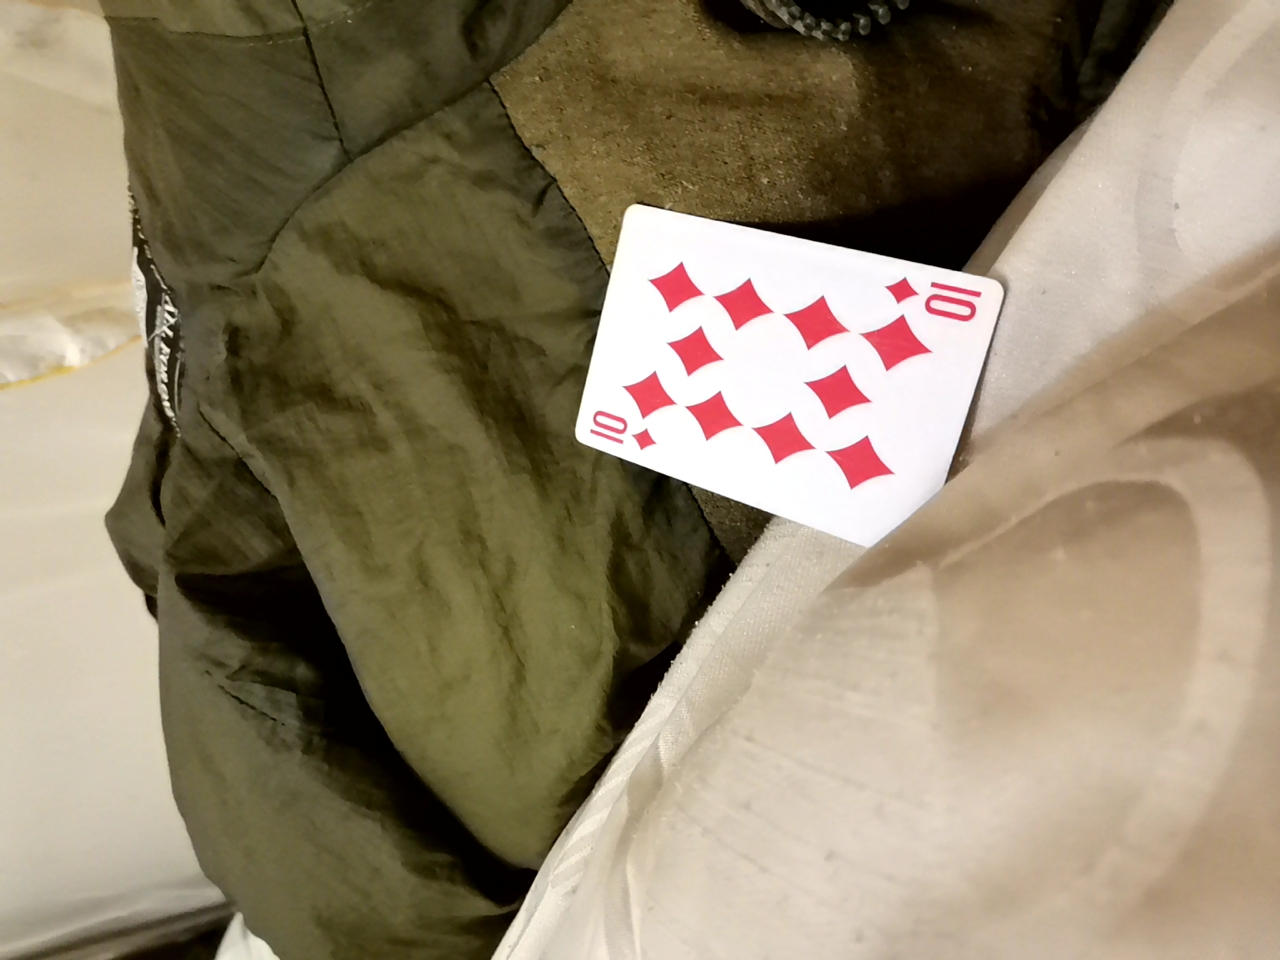fk 10: (529, 208, 980, 546)
